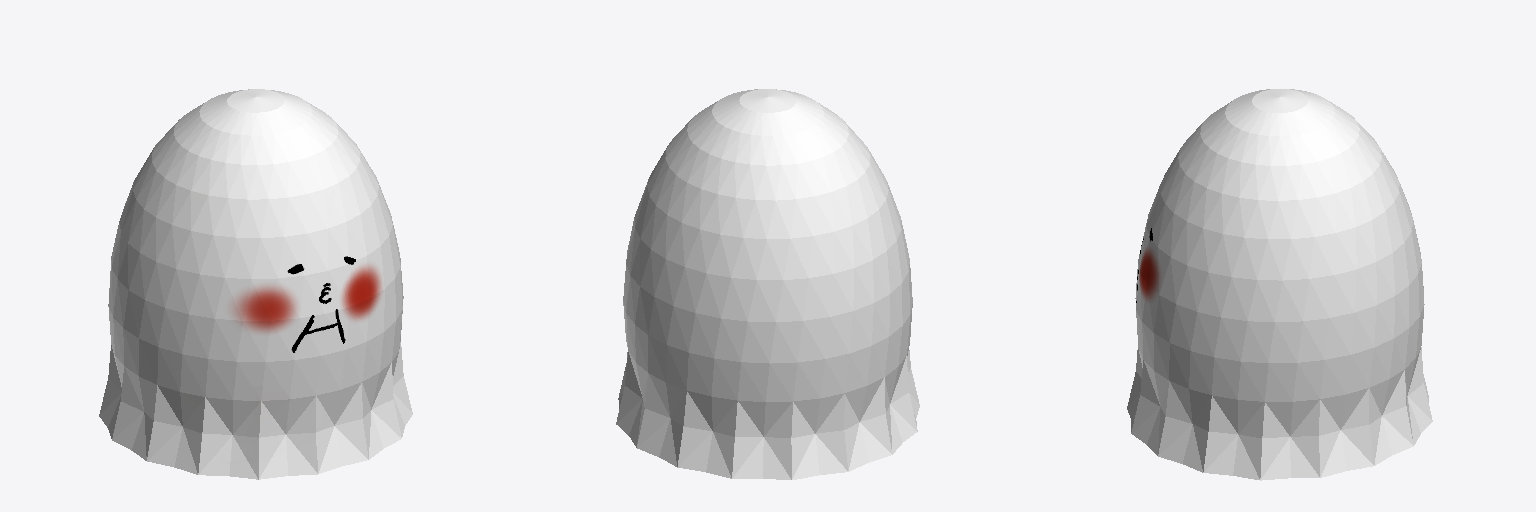
The picture shows the model from 3 angles: view 1: azimuth 30°, elevation 25°; view 2: azimuth 150°, elevation 25°; view 3: azimuth 270°, elevation 25°; orthographic projection.
Visible parts, largest first — view 1: sabana; view 2: sabana; view 3: sabana.
Boxes of the visible parts, x1=… form: sabana: x1=99, y1=89, x2=412, y2=479; sabana: x1=616, y1=89, x2=919, y2=479; sabana: x1=1127, y1=89, x2=1432, y2=480.
Size of the model in its own units: 3.35 by 3.79 by 3.31.
Materials: 1 (1 with a texture image).